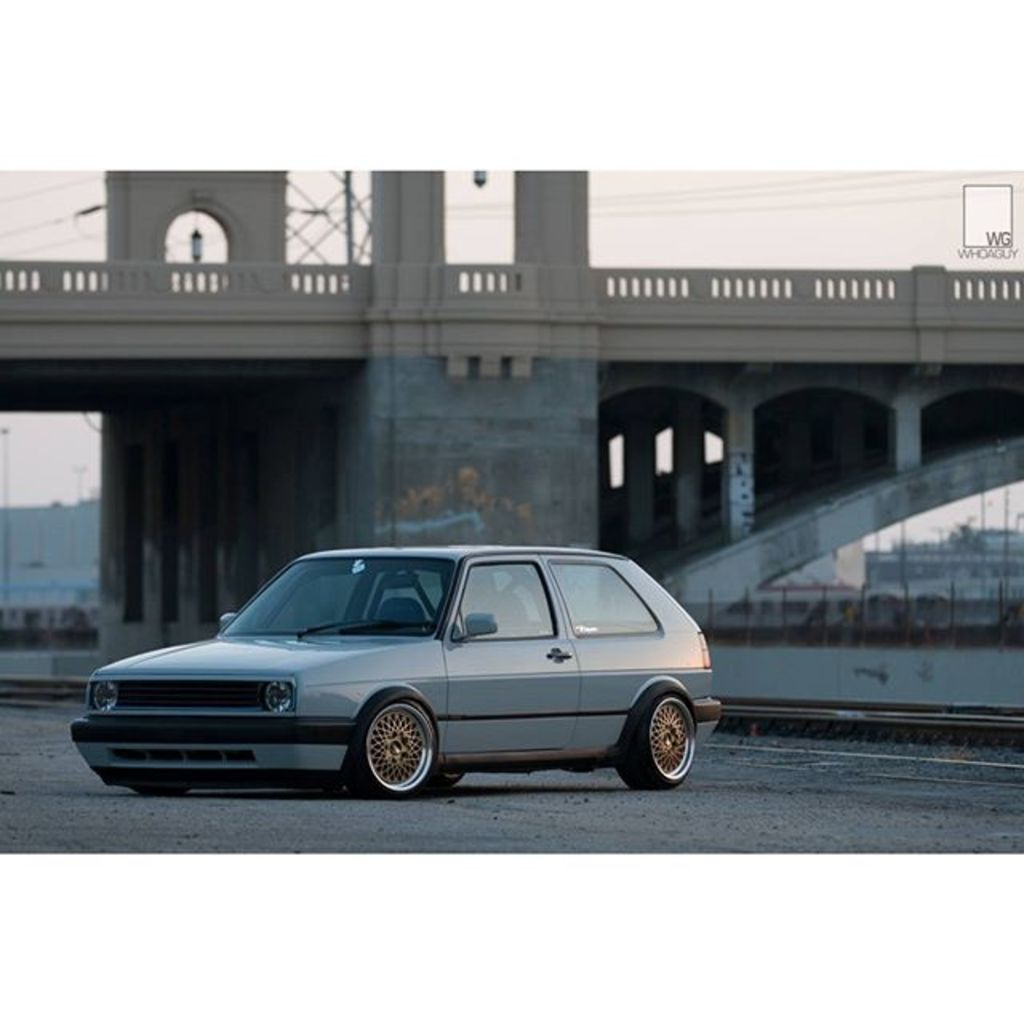Car: (67, 537, 705, 811)
